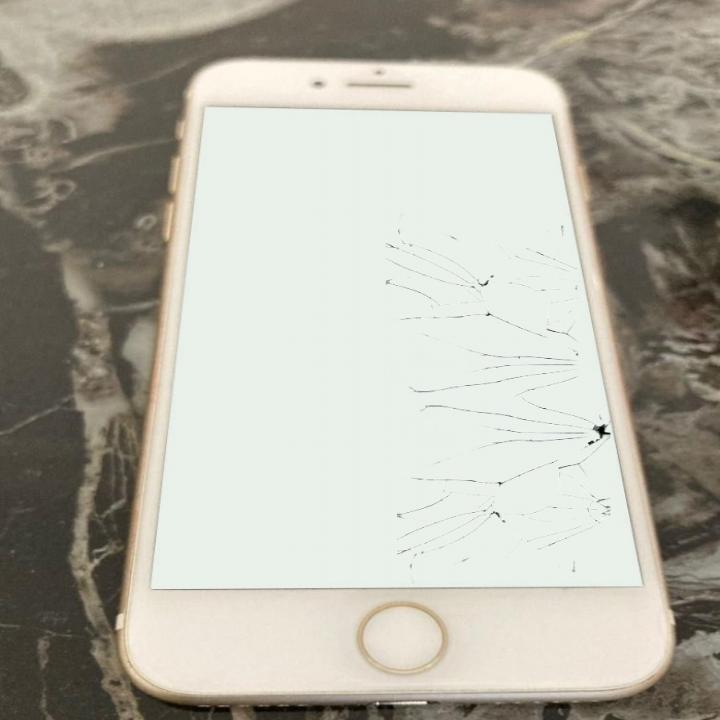Crack: (376, 221, 629, 594)
